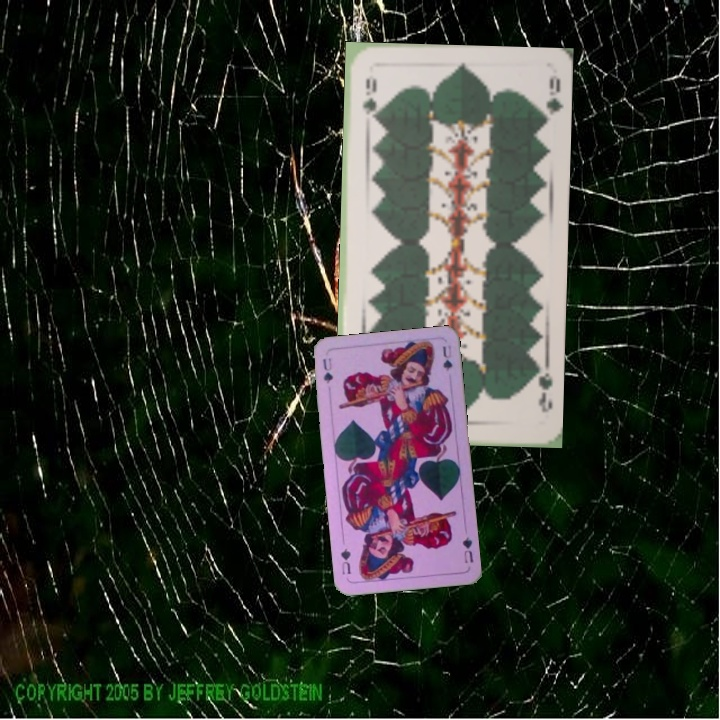G9: (529, 362, 556, 415), (358, 74, 378, 125)
GU: (458, 533, 476, 566), (318, 354, 335, 386)
